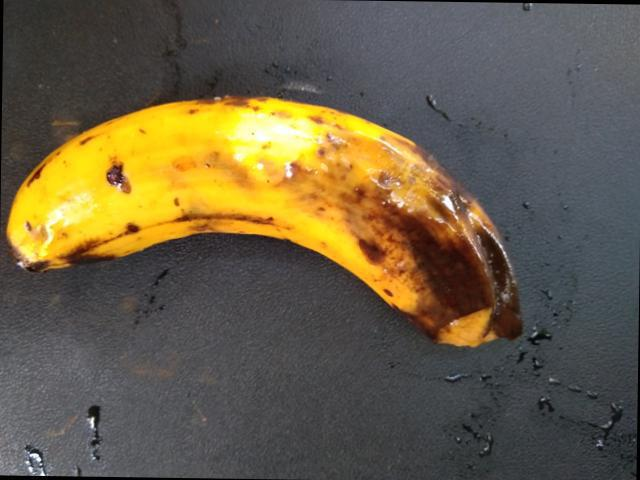overripe: (0, 45, 336, 294)
rotten: (280, 83, 559, 359)
